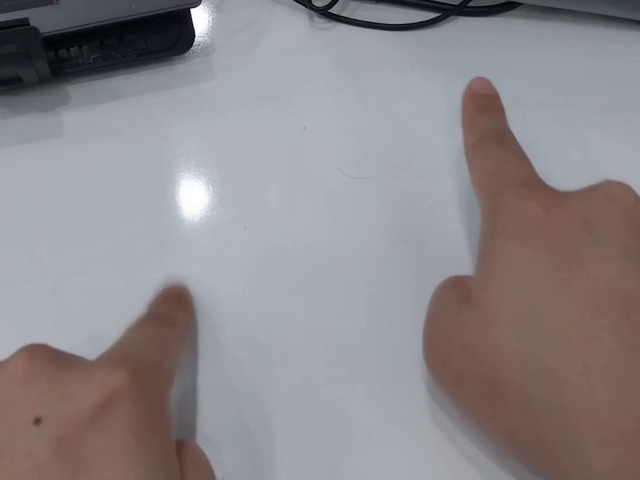fingers: (460, 75, 507, 119), (148, 281, 194, 322)
